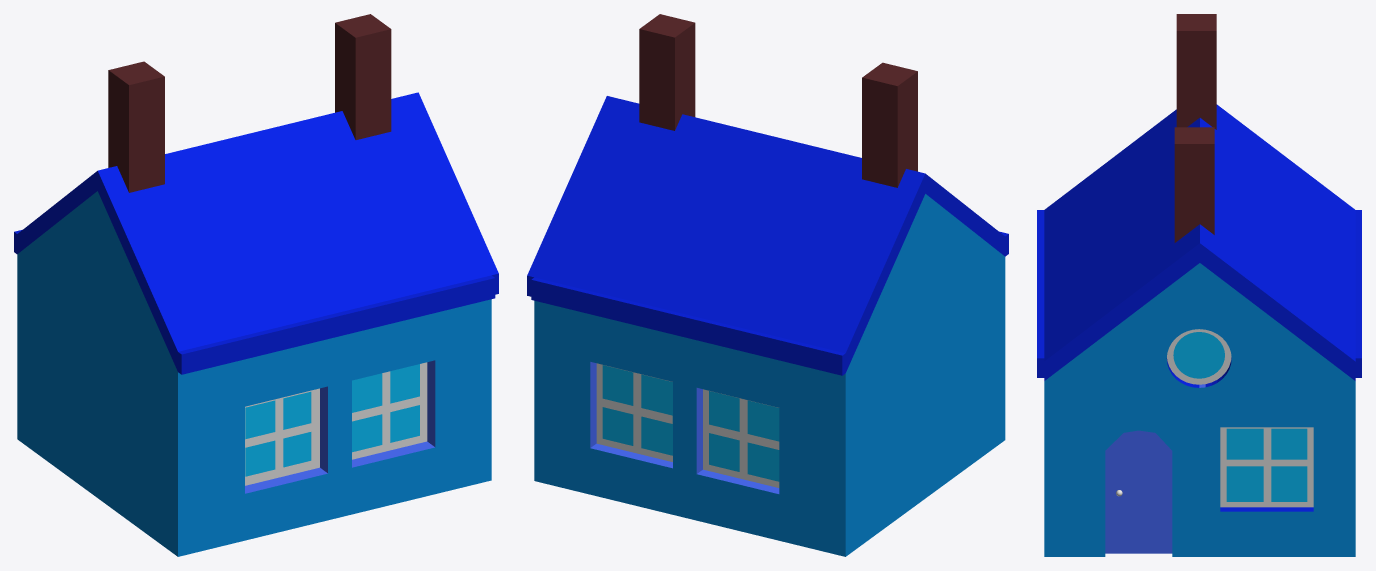
The model's file is Blue house 5.fbx.
The picture shows the model from 3 angles, left to right: view 1: azimuth 30°, elevation 25°; view 2: azimuth 150°, elevation 25°; view 3: azimuth 270°, elevation 25°; orthographic projection. The views are drawn at different scales.
Visible parts, largest first — view 1: Cube, Cube.002, Cube.001; view 2: Cube, Cube.002, Cube.001; view 3: Cube, Cube.002, Cube.001.
Boxes of the visible parts, x1=… form: Cube: x1=14, y1=92, x2=498, y2=556; Cube.002: x1=108, y1=61, x2=164, y2=192; Cube.001: x1=335, y1=14, x2=391, y2=139; Cube: x1=527, y1=96, x2=1008, y2=556; Cube.002: x1=862, y1=62, x2=917, y2=187; Cube.001: x1=639, y1=14, x2=695, y2=130; Cube: x1=1037, y1=104, x2=1361, y2=556; Cube.002: x1=1176, y1=14, x2=1216, y2=129; Cube.001: x1=1174, y1=127, x2=1214, y2=242.
Size of the model in its own units: 258 by 321 by 234.
